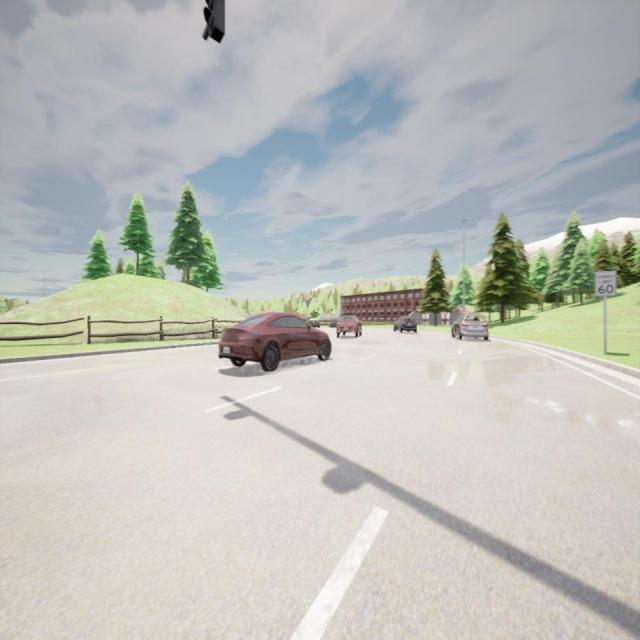Traffic_Signs: (594, 271, 617, 296)
Vehicle: (219, 312, 331, 370), (451, 313, 491, 340), (336, 315, 362, 338), (393, 317, 418, 334), (308, 316, 321, 329)
traffic_light: (202, 0, 225, 42)
